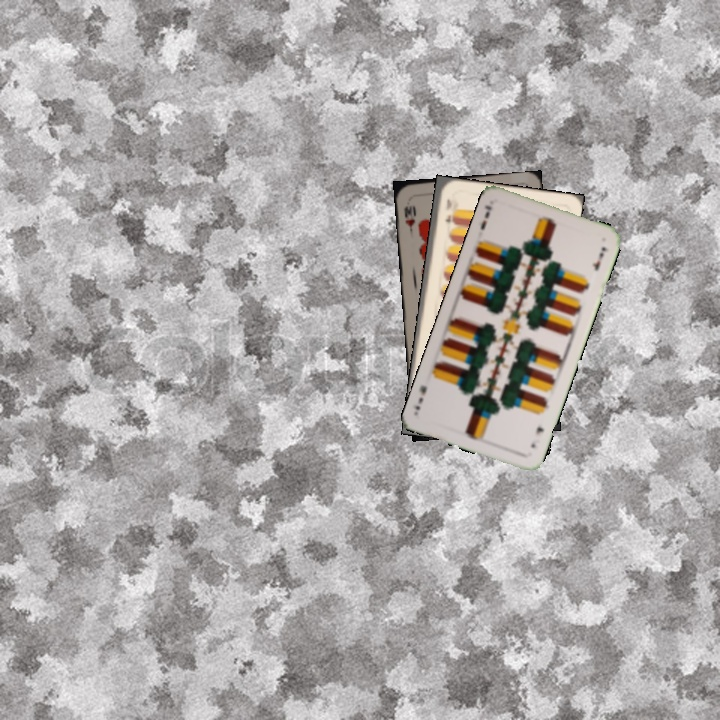E10: (441, 194, 454, 225)
E7: (476, 201, 495, 232), (527, 422, 547, 451)
H10: (400, 201, 418, 236)
